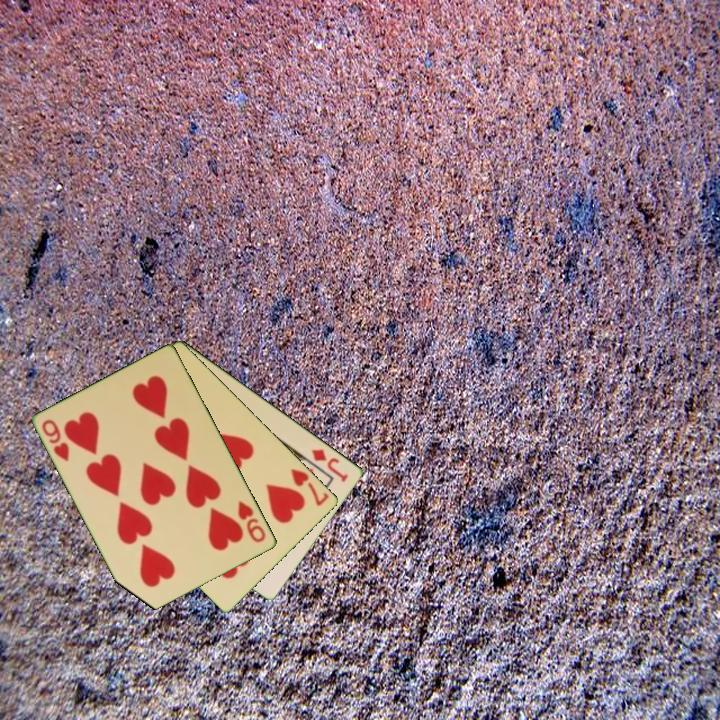7h: (287, 465, 332, 509)
9h: (235, 497, 269, 546), (39, 416, 73, 465)
Jd: (308, 445, 351, 485)
